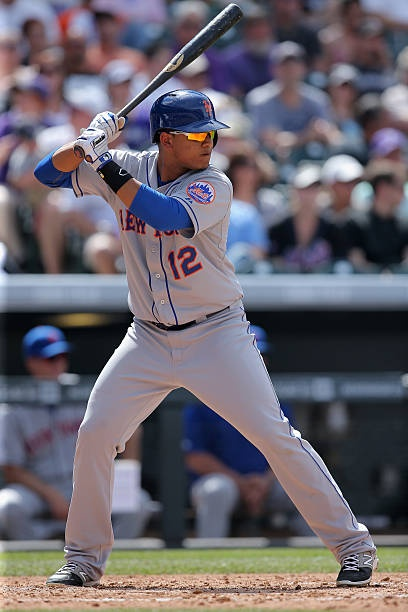bita: (81, 5, 241, 156)
